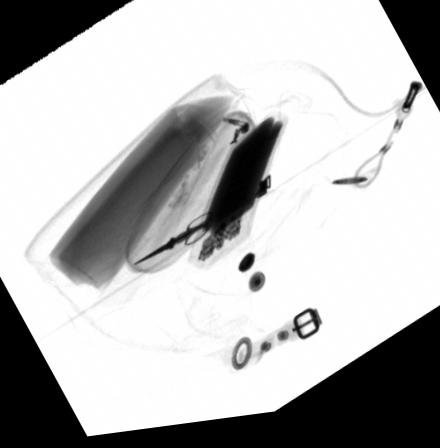Powerbank: (190, 119, 290, 278)
Scissors: (126, 214, 211, 273)
